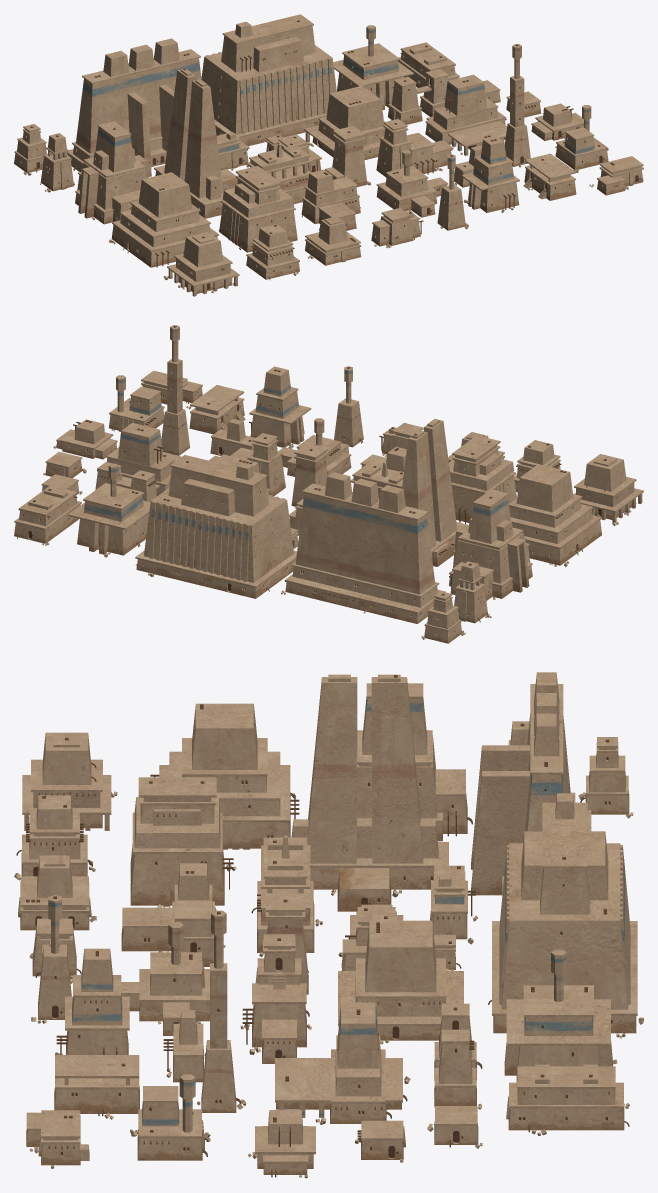
Rendered from buildings.gltf.
3 renders of one model, top to bottom at view 1: azimuth 30°, elevation 25°; view 2: azimuth 150°, elevation 25°; view 3: azimuth 270°, elevation 25°, orthographic. The views are drawn at different scales.
Visible parts, largest first — view 1: Object_13, Object_8, Object_12, Object_7, Object_6, Object_4, Object_9, Object_5, Object_3, Object_11, Object_10, Object_14 (+1 smaller); view 2: Object_12, Object_13, Object_8, Object_7, Object_4, Object_11, Object_14, Object_10, Object_9, Object_5, Object_2, Object_3 (+1 smaller); view 3: Object_8, Object_13, Object_6, Object_7, Object_10, Object_5, Object_3, Object_9, Object_4, Object_12, Object_11, Object_2 (+1 smaller).
Part boxes in pixels (left/top/right/bottom): Object_13: left=201, top=14, right=336, bottom=146; Object_8: left=154, top=25, right=448, bottom=218; Object_12: left=67, top=38, right=201, bottom=176; Object_7: left=325, top=44, right=530, bottom=217; Object_6: left=246, top=85, right=453, bottom=279; Object_4: left=40, top=133, right=576, bottom=296; Object_9: left=219, top=143, right=312, bottom=252; Object_5: left=14, top=105, right=608, bottom=230; Object_3: left=216, top=80, right=643, bottom=265; Object_11: left=108, top=172, right=218, bottom=267; Object_10: left=398, top=42, right=506, bottom=155; Object_14: left=75, top=121, right=148, bottom=224; Object_12: left=281, top=472, right=445, bottom=623; Object_13: left=135, top=455, right=296, bottom=598; Object_8: left=68, top=419, right=468, bottom=566; Object_7: left=161, top=325, right=351, bottom=506; Object_4: left=189, top=385, right=643, bottom=623; Object_11: left=509, top=464, right=601, bottom=566; Object_14: left=449, top=489, right=532, bottom=600; Object_10: left=14, top=423, right=181, bottom=545; Object_9: left=350, top=435, right=516, bottom=523; Object_5: left=109, top=375, right=465, bottom=643; Object_2: left=17, top=399, right=606, bottom=622; Object_3: left=41, top=366, right=504, bottom=548; Object_8: left=291, top=674, right=617, bottom=1109; Object_13: left=492, top=793, right=643, bottom=1038; Object_6: left=14, top=795, right=463, bottom=1063; Object_7: left=55, top=893, right=308, bottom=1112; Object_10: left=275, top=1002, right=629, bottom=1135; Object_5: left=121, top=737, right=633, bottom=1160; Object_3: left=18, top=855, right=482, bottom=1168; Object_9: left=130, top=777, right=322, bottom=956; Object_4: left=22, top=721, right=529, bottom=1119; Object_12: left=471, top=672, right=591, bottom=895; Object_11: left=150, top=703, right=299, bottom=849; Object_2: left=16, top=762, right=629, bottom=1178.
Bounding box in the file's own units: 151 × 37.35 × 104.
Materials: 1 (1 with a texture image).
